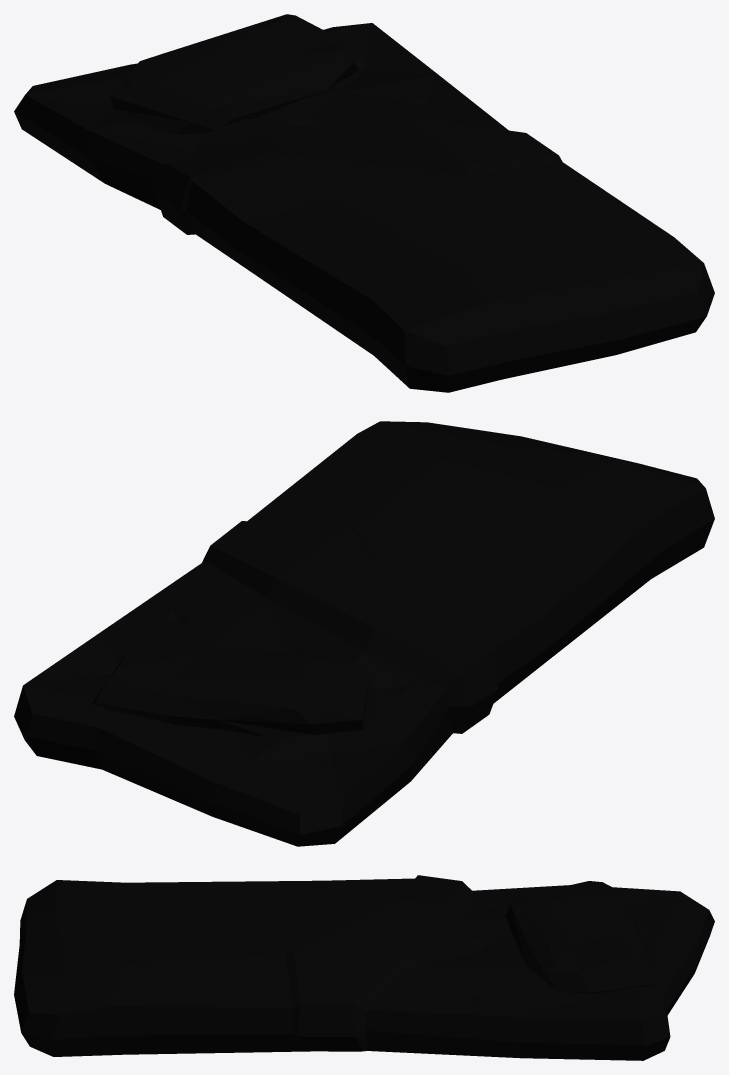
Rendered from cyber_SM_Prop_Old_Mattress_03.gltf.
3 renders of one model, top to bottom at view 1: azimuth 30°, elevation 25°; view 2: azimuth 150°, elevation 25°; view 3: azimuth 270°, elevation 25°, orthographic. The views are drawn at different scales.
Visible parts, largest first — view 1: SM_Prop_Old_Mattress_03; view 2: SM_Prop_Old_Mattress_03; view 3: SM_Prop_Old_Mattress_03.
Boxes of the visible parts, <box> form: SM_Prop_Old_Mattress_03: <box>14,14,714,392</box>; SM_Prop_Old_Mattress_03: <box>14,421,714,846</box>; SM_Prop_Old_Mattress_03: <box>14,875,714,1060</box>.
Bounding box in the file's own units: 1.07 × 0.2575 × 2.26.
Materials: 1 (1 with a texture image).
